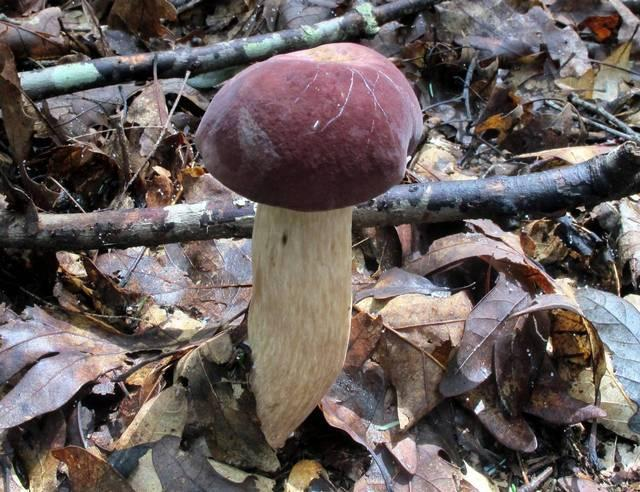Non-edible Mushroom: (192, 40, 424, 451)
